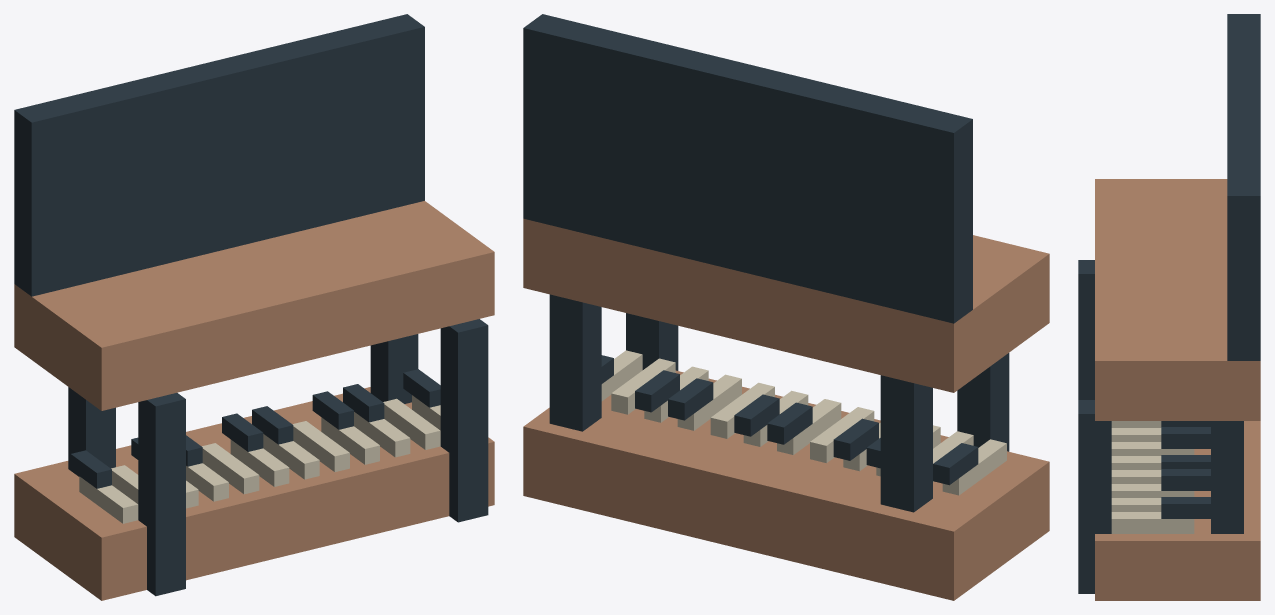
The model's file is music-01.glb.
3 renders of one model, left to right at view 1: azimuth 30°, elevation 25°; view 2: azimuth 150°, elevation 25°; view 3: azimuth 270°, elevation 25°, orthographic. The views are drawn at different scales.
Visible parts, largest first — view 1: Grand piano; view 2: Grand piano; view 3: Grand piano.
Boxes of the visible parts, x1,y1,x2,y2 form: Grand piano: (14, 14, 494, 600); Grand piano: (523, 14, 1049, 600); Grand piano: (1078, 14, 1260, 600).
Size of the model in its own units: 2.08 by 2.16 by 0.88.
